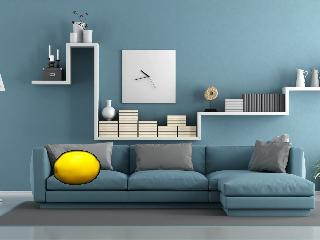lemon: (54, 151, 99, 185)
